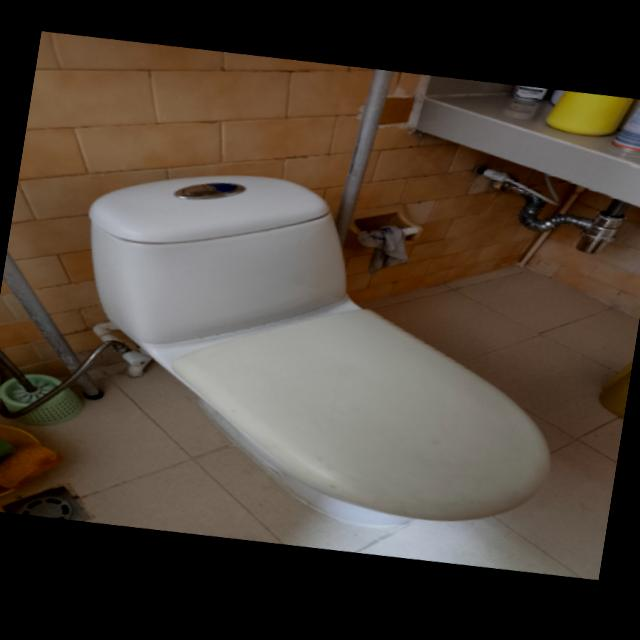toilet: (41, 134, 604, 563)
